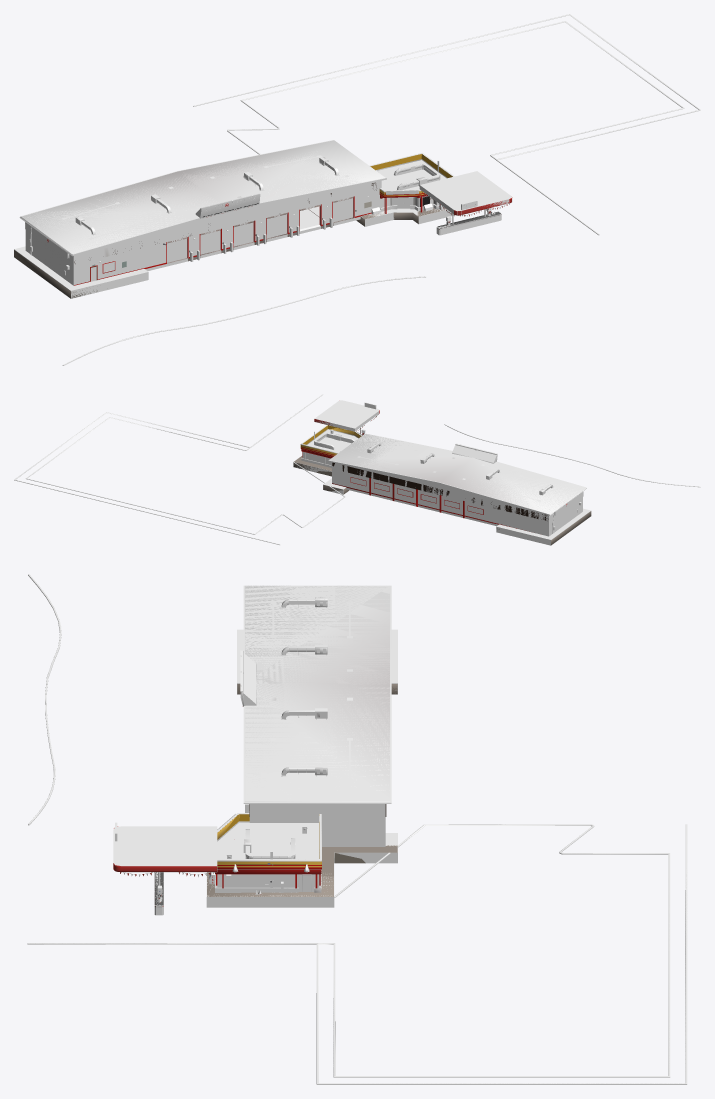
Rendered from ut_autorepair_walls.DAE.
The picture shows the model from 3 angles, top to bottom: view 1: azimuth 30°, elevation 25°; view 2: azimuth 150°, elevation 25°; view 3: azimuth 270°, elevation 25°; orthographic projection. The views are drawn at different scales.
Parts seen in each view (by area): view 1: Colmesh_ut_autorepair_walls-1, ut_autorepair_walls1200, ut_autorepair_walls800, ut_autorepair_walls400, ut_autorepair_walls100; view 2: Colmesh_ut_autorepair_walls-1, ut_autorepair_walls1200, ut_autorepair_walls800, ut_autorepair_walls100, ut_autorepair_walls400; view 3: ut_autorepair_walls1200, Colmesh_ut_autorepair_walls-1, ut_autorepair_walls800, ut_autorepair_walls400.
Part boxes in pixels (bbox=[...]): Colmesh_ut_autorepair_walls-1: bbox=[14, 15, 698, 298]; ut_autorepair_walls1200: bbox=[23, 14, 700, 365]; ut_autorepair_walls800: bbox=[14, 14, 700, 362]; ut_autorepair_walls400: bbox=[75, 165, 512, 297]; ut_autorepair_walls100: bbox=[74, 154, 500, 263]; Colmesh_ut_autorepair_walls-1: bbox=[15, 400, 590, 545]; ut_autorepair_walls1200: bbox=[14, 394, 693, 544]; ut_autorepair_walls800: bbox=[14, 394, 700, 545]; ut_autorepair_walls100: bbox=[303, 425, 548, 520]; ut_autorepair_walls400: bbox=[294, 428, 545, 523]; ut_autorepair_walls1200: bbox=[27, 574, 687, 1084]; Colmesh_ut_autorepair_walls-1: bbox=[44, 585, 685, 1082]; ut_autorepair_walls800: bbox=[28, 574, 687, 1083]; ut_autorepair_walls400: bbox=[113, 587, 397, 914].
Bounding box in the file's own units: 14213 × 7769 × 1061.
